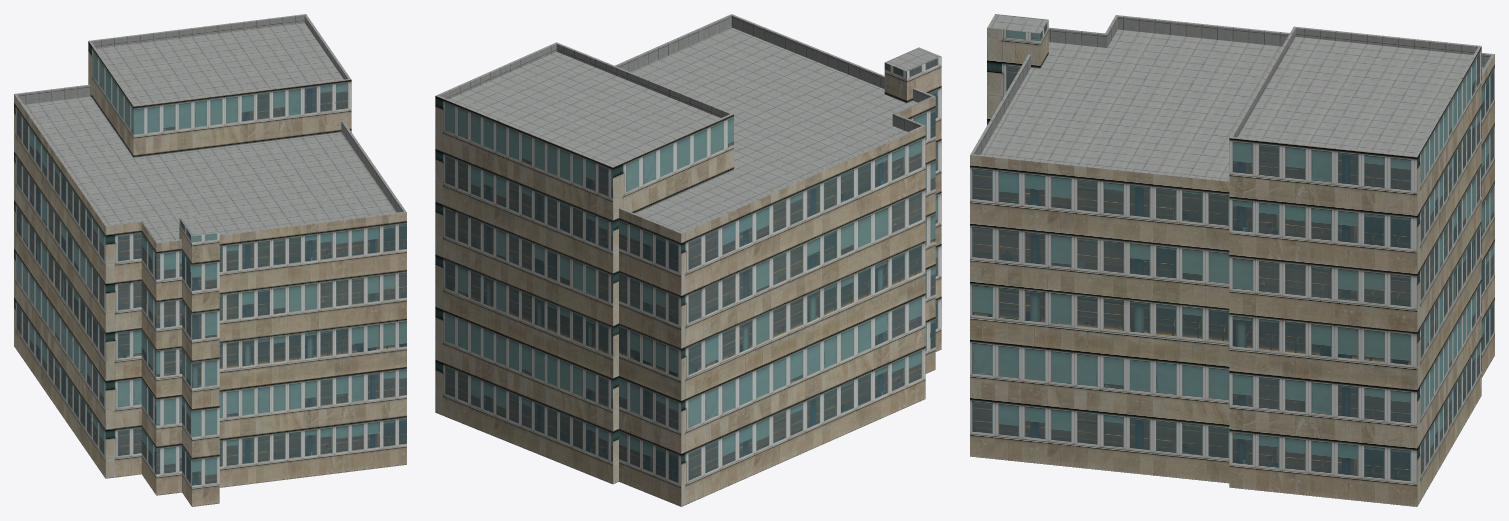
3 renders of one model, left to right at view 1: azimuth 30°, elevation 25°; view 2: azimuth 150°, elevation 25°; view 3: azimuth 270°, elevation 25°, orthographic. The views are drawn at different scales.
Visible parts, largest first — view 1: JZ_JX_23; view 2: JZ_JX_23; view 3: JZ_JX_23.
Boxes of the visible parts, x1,y1,x2,y2 form: JZ_JX_23: (14, 14, 406, 506); JZ_JX_23: (435, 14, 941, 506); JZ_JX_23: (970, 14, 1494, 506).
Size of the model in its own units: 2175 by 1861 by 2532.
2 materials, 2 textured.
